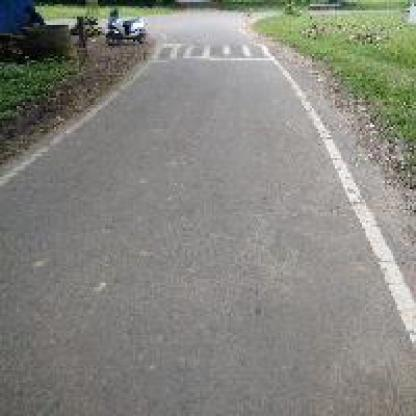Speed Bump: (146, 38, 278, 62)
